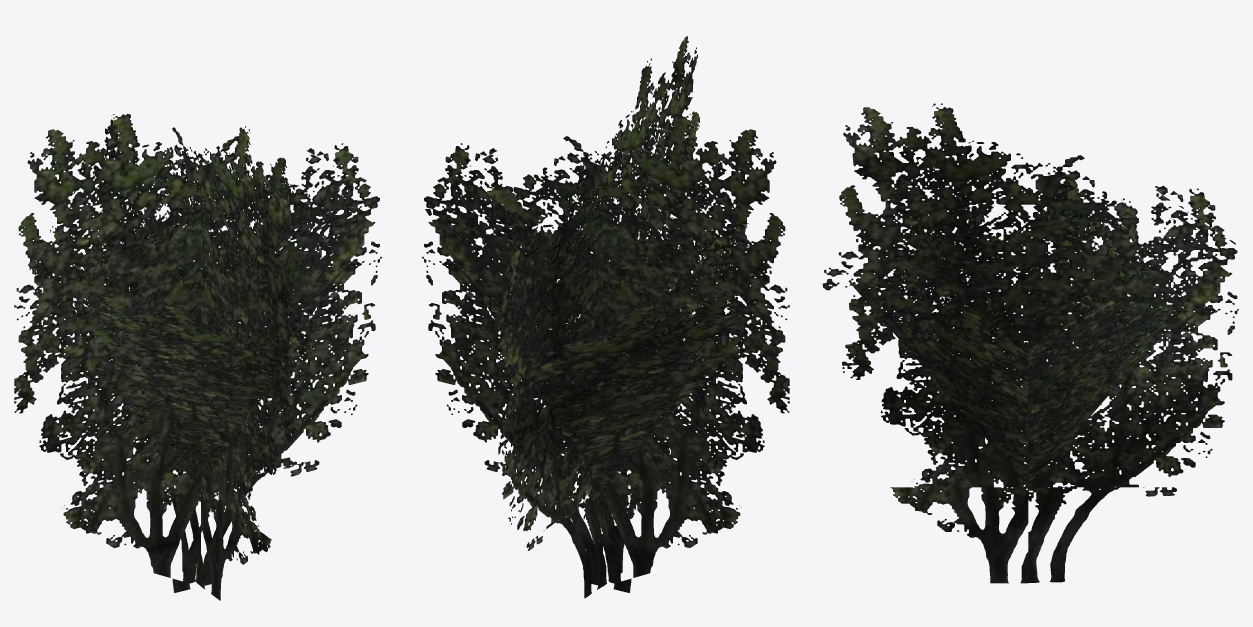
The model's file is OW_LOB_BUSH_V4.glb.
3 renders of one model, left to right at view 1: azimuth 30°, elevation 25°; view 2: azimuth 150°, elevation 25°; view 3: azimuth 270°, elevation 25°, orthographic. The views are drawn at different scales.
Visible parts, largest first — view 1: Mesh; view 2: Mesh; view 3: Mesh.
Part boxes in pixels (bbox=[...]): Mesh: bbox=[14, 113, 381, 600]; Mesh: bbox=[422, 36, 789, 598]; Mesh: bbox=[822, 103, 1238, 583].
Size of the model in its own units: 1.34 by 1.69 by 1.34.
Materials: 1 (1 with a texture image).
